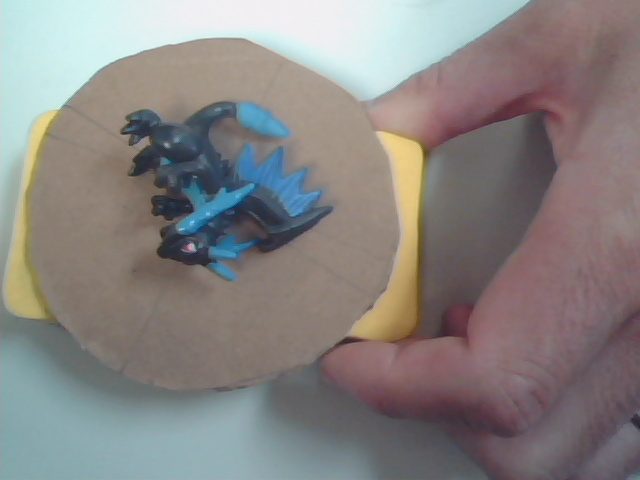charizard: (110, 68, 348, 296)
